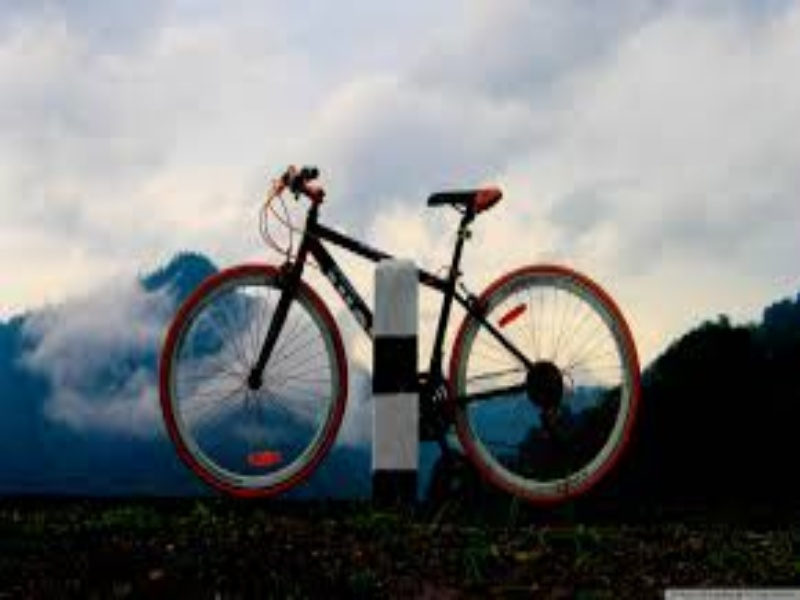bicycle: (141, 163, 656, 501)
